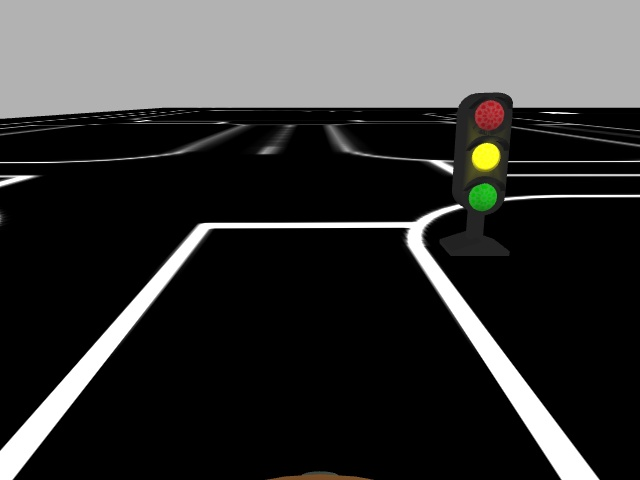yellow_light: (459, 94, 516, 214)
